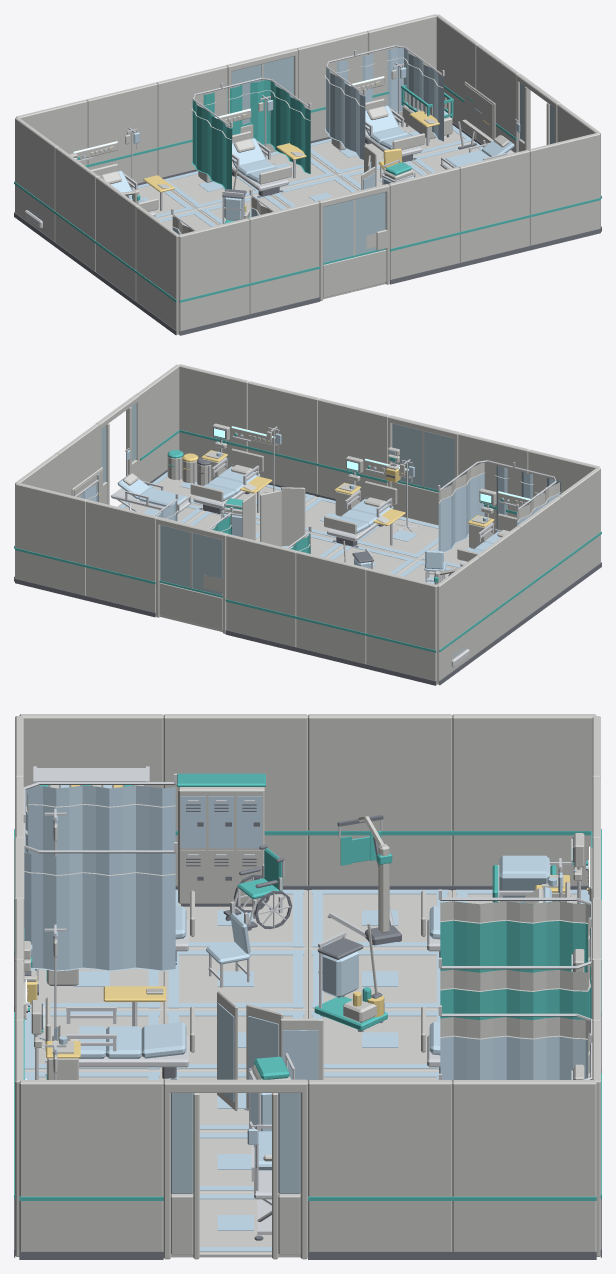
Rendered from six-bed-ward-bay.glb.
3 views of the same model, one above another, from view 1: azimuth 30°, elevation 25°; view 2: azimuth 150°, elevation 25°; view 3: azimuth 270°, elevation 25° (orthographic). The views are drawn at different scales.
Visible parts, largest first — view 1: 024-partition-wall/0, 034-partition-wall/0, 026-partition-wall/0, 075-curtain-rail-with-drape/1, 030-partition-wall/0, 032-partition-wall/0, 082-curtain-rail-with-drape/1, 027-partition-wall/0, 029-partition-wall/0, 042-partition-wall/0, 038-partition-wall/0, 040-partition-wall/0 (+37 smaller); view 2: 025-partition-wall/0, 035-partition-wall/0, 029-partition-wall/0, 027-partition-wall/0, 033-partition-wall/0, 032-partition-wall/0, 030-partition-wall/0, 034-partition-wall/0, 036-partition-wall/0, 040-partition-wall/0, 042-partition-wall/0, 038-partition-wall/0 (+34 smaller); view 3: 050-curtain-rail-with-drape/1, 039-partition-wall/0, 037-partition-wall/0, 043-partition-wall/0, 038-partition-wall/0, 036-partition-wall/0, 040-partition-wall/0, 075-curtain-rail-with-drape/1, 041-glazed-partition-doorway/0, 042-partition-wall/0, 082-curtain-rail-with-drape/1, 075-curtain-rail-with-drape/2 (+58 smaller).
Boxes of the visible parts, x1,y1,x2,y2 form: 024-partition-wall/0: (178, 218, 249, 334); 034-partition-wall/0: (528, 132, 600, 245); 026-partition-wall/0: (248, 201, 319, 313); 075-curtain-rail-with-drape/1: (191, 80, 310, 189); 030-partition-wall/0: (388, 167, 459, 279); 032-partition-wall/0: (458, 149, 529, 262); 082-curtain-rail-with-drape/1: (325, 47, 443, 160); 027-partition-wall/0: (86, 82, 157, 184); 029-partition-wall/0: (156, 65, 227, 177); 042-partition-wall/0: (136, 206, 178, 334); 038-partition-wall/0: (55, 147, 98, 271); 040-partition-wall/0: (96, 176, 139, 300); 025-partition-wall/0: (366, 568, 437, 684); 035-partition-wall/0: (15, 483, 87, 595); 029-partition-wall/0: (226, 534, 297, 646); 027-partition-wall/0: (296, 551, 367, 663); 033-partition-wall/0: (86, 499, 157, 615); 032-partition-wall/0: (248, 381, 319, 493); 030-partition-wall/0: (318, 398, 389, 504); 034-partition-wall/0: (179, 364, 249, 469); 036-partition-wall/0: (437, 556, 479, 684); 040-partition-wall/0: (517, 497, 560, 621); 042-partition-wall/0: (557, 467, 600, 591); 038-partition-wall/0: (476, 526, 519, 650); 050-curtain-rail-with-drape/1: (24, 785, 175, 971); 039-partition-wall/0: (308, 1080, 452, 1251); 037-partition-wall/0: (452, 1080, 596, 1251); 043-partition-wall/0: (19, 1080, 163, 1251); 038-partition-wall/0: (308, 714, 452, 885); 036-partition-wall/0: (452, 714, 596, 885); 040-partition-wall/0: (163, 714, 307, 885); 075-curtain-rail-with-drape/1: (440, 901, 591, 1019); 041-glazed-partition-doorway/0: (163, 1079, 307, 1259); 042-partition-wall/0: (19, 714, 163, 788); 082-curtain-rail-with-drape/1: (440, 1017, 590, 1080); 075-curtain-rail-with-drape/2: (440, 901, 591, 991).
Bounding box in the file's own units: 12.2 × 2.7 × 8.15.
